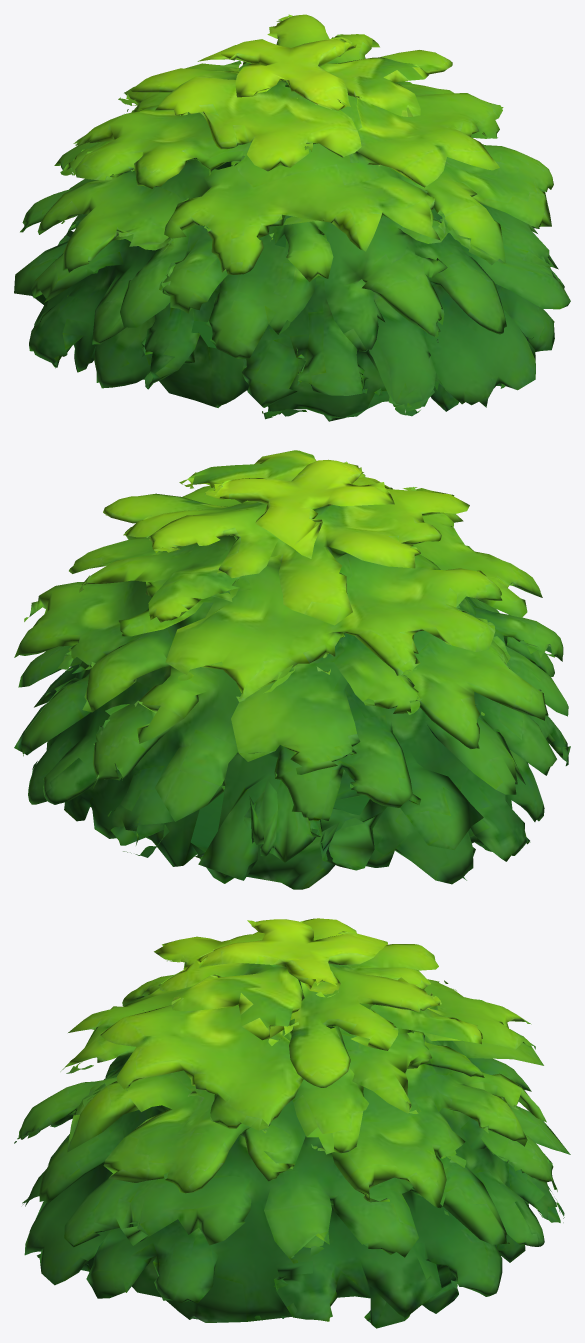
The model's file is bush-1.glb.
3 views of the same model, one above another, from view 1: azimuth 30°, elevation 25°; view 2: azimuth 150°, elevation 25°; view 3: azimuth 270°, elevation 25° (orthographic). The views are drawn at different scales.
Visible parts, largest first — view 1: tripo_node_de581838-0c58-46d5-ba49-763da4a5784e; view 2: tripo_node_de581838-0c58-46d5-ba49-763da4a5784e; view 3: tripo_node_de581838-0c58-46d5-ba49-763da4a5784e.
Part boxes in pixels (x1,y1,x2,y2): tripo_node_de581838-0c58-46d5-ba49-763da4a5784e: (14, 14, 570, 421); tripo_node_de581838-0c58-46d5-ba49-763da4a5784e: (14, 450, 570, 889); tripo_node_de581838-0c58-46d5-ba49-763da4a5784e: (14, 918, 570, 1328).
Size of the model in its own units: 0.9822 by 0.5696 by 0.991.
1 material, 1 textured.
